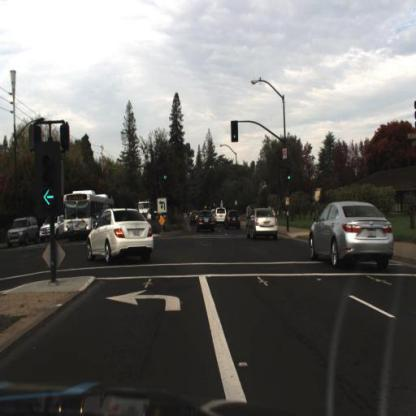car: (307, 199, 395, 274), (87, 207, 155, 267), (244, 207, 282, 243), (8, 214, 41, 250), (197, 209, 218, 235), (224, 207, 243, 233), (216, 205, 227, 228), (190, 211, 200, 227)
trafficLight: (232, 120, 240, 145), (163, 167, 169, 183)
trafficLight-Green: (286, 166, 293, 184)
trafficLight-GreenLeft: (38, 140, 61, 214)
truck: (63, 190, 119, 243), (139, 199, 160, 229)
